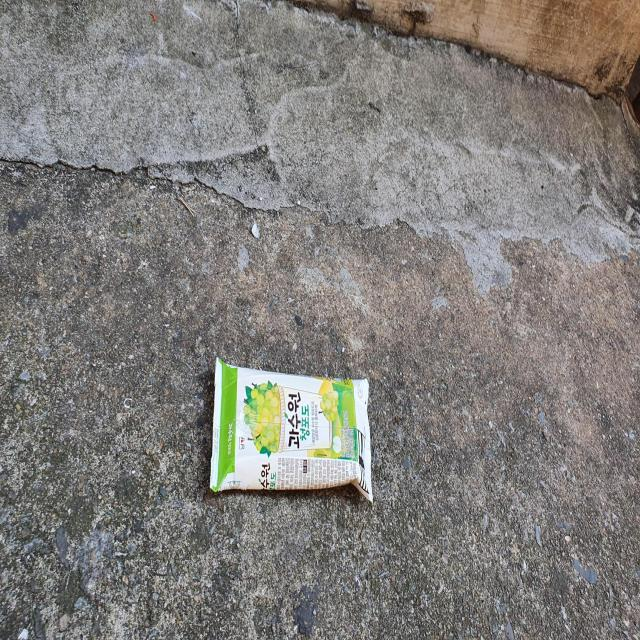paperpack: (209, 358, 373, 502)
